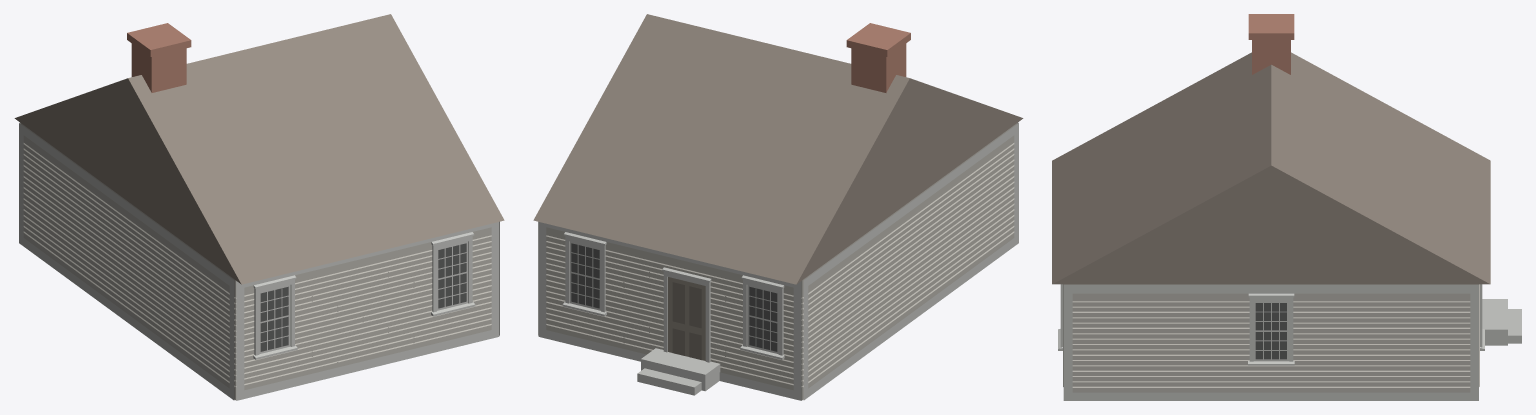
The model's file is recon_1835_blk_school_section_tier_94_d5_02__inferred_1835.glb.
The picture shows the model from 3 angles, left to right: view 1: azimuth 30°, elevation 25°; view 2: azimuth 150°, elevation 25°; view 3: azimuth 270°, elevation 25°; orthographic projection. The views are drawn at different scales.
Visible parts, largest first — view 1: recon_1835_blk_school_section_tier_94_d5_02__inferred_1835; view 2: recon_1835_blk_school_section_tier_94_d5_02__inferred_1835; view 3: recon_1835_blk_school_section_tier_94_d5_02__inferred_1835.
Boxes of the visible parts, left/top/right/bottom form: recon_1835_blk_school_section_tier_94_d5_02__inferred_1835: left=14, top=14, right=504, bottom=400; recon_1835_blk_school_section_tier_94_d5_02__inferred_1835: left=533, top=14, right=1023, bottom=400; recon_1835_blk_school_section_tier_94_d5_02__inferred_1835: left=1052, top=14, right=1521, bottom=400.
Size of the model in its own units: 6.47 by 6.37 by 10.12.
